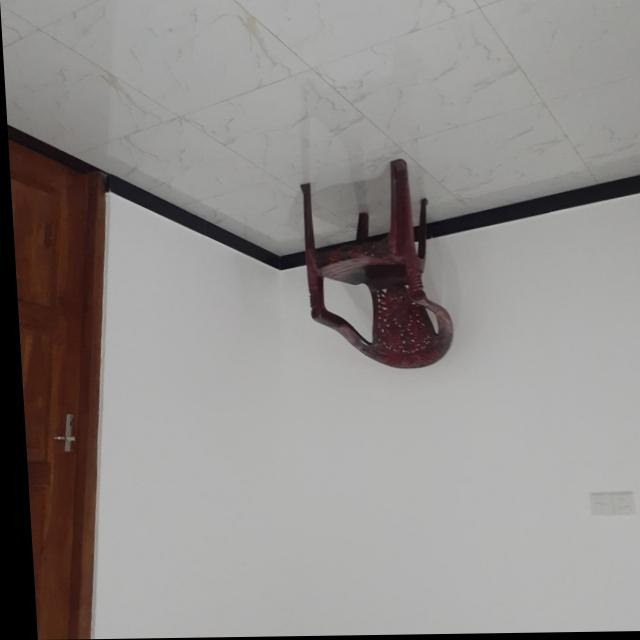Chair: (295, 158, 450, 371)
